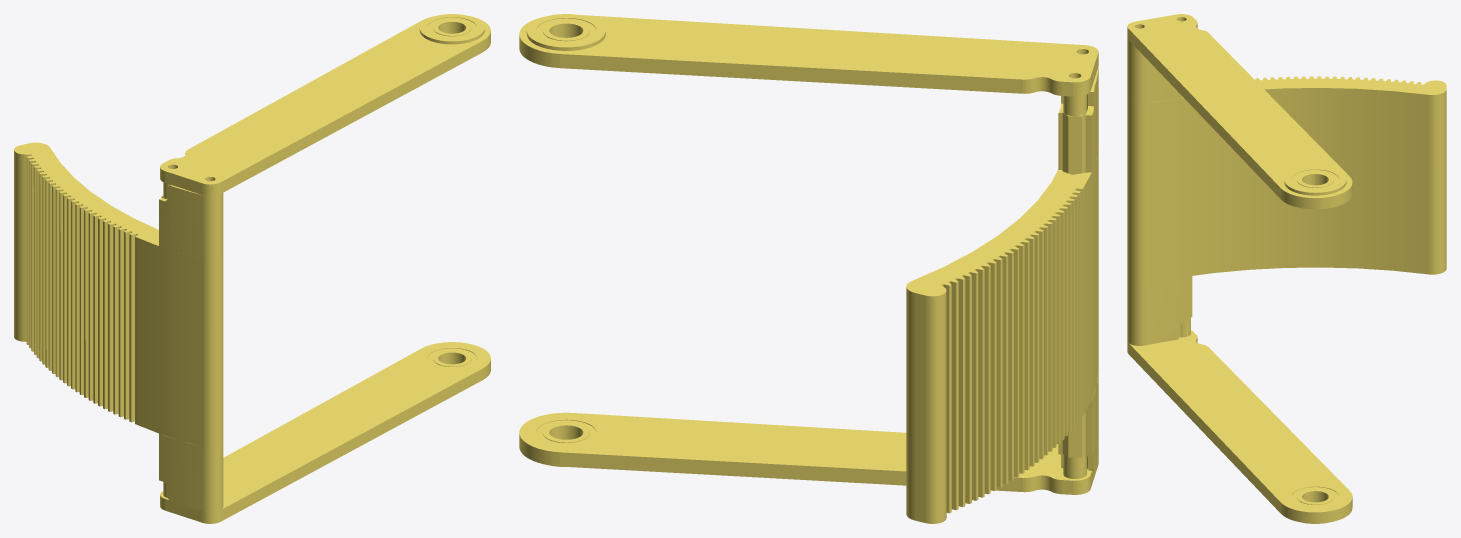
3 renders of one model, left to right at view 1: azimuth 30°, elevation 25°; view 2: azimuth 150°, elevation 25°; view 3: azimuth 270°, elevation 25°, orthographic. The views are drawn at different scales.
Visible parts, largest first — view 1: 26G0401__5, 26G0403__9, 26G0403__8, 26G0406__13, 26G0407__10, 1/2" Thunder Flanged__16, 1/2" Thunder Flanged__4; view 2: 26G0401__5, 26G0403__9, 26G0403__8, 1/2" Thunder Flanged__16, 6" L #10-32 3/8" Hex Standofff__6, 1/2" Thunder Flanged__4, 26G0406__13, 26G0407__10; view 3: 26G0401__5, 26G0403__9, 26G0403__8, 26G0407__10, 26G0406__13, 1/2" Thunder Flanged__16, 1/2" Thunder Flanged__4.
Part boxes in pixels (x1,y1,x2,y2): 26G0401__5: [14, 142, 223, 447]; 26G0403__9: [160, 16, 490, 196]; 26G0403__8: [160, 342, 490, 523]; 26G0406__13: [159, 185, 223, 260]; 26G0407__10: [159, 433, 223, 512]; 1/2" Thunder Flanged__16: [419, 14, 484, 44]; 1/2" Thunder Flanged__4: [423, 346, 481, 370]; 26G0401__5: [906, 146, 1098, 523]; 26G0403__9: [519, 15, 1098, 96]; 26G0403__8: [519, 412, 1098, 494]; 1/2" Thunder Flanged__16: [526, 14, 605, 50]; 6" L #10-32 3/8" Hex Standofff__6: [1062, 110, 1087, 457]; 1/2" Thunder Flanged__4: [531, 417, 601, 466]; 26G0406__13: [1058, 66, 1098, 172]; 26G0407__10: [1058, 373, 1098, 470]; 26G0401__5: [1127, 76, 1446, 284]; 26G0403__9: [1127, 14, 1352, 209]; 26G0403__8: [1127, 330, 1352, 523]; 26G0407__10: [1127, 276, 1190, 345]; 26G0406__13: [1127, 38, 1183, 104]; 1/2" Thunder Flanged__16: [1284, 166, 1346, 195]; 1/2" Thunder Flanged__4: [1287, 485, 1343, 523].
Size of the model in its own units: 0.2362 by 0.1873 by 0.1637.
